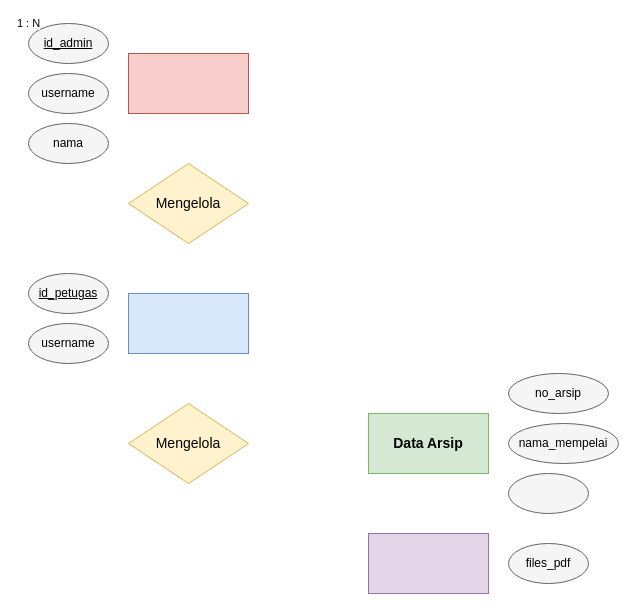
Some shapes in this 636 by 611 pixel diagram are drawn without their labels. Here are the shapes that lost their labels. From the top down, the centre of each, then its label:
At (x=188, y=83): "Koordinator".
At (x=188, y=323): "Petugas".
At (x=548, y=493): "NIK".
At (x=428, y=563): "Arsip_Scan".
